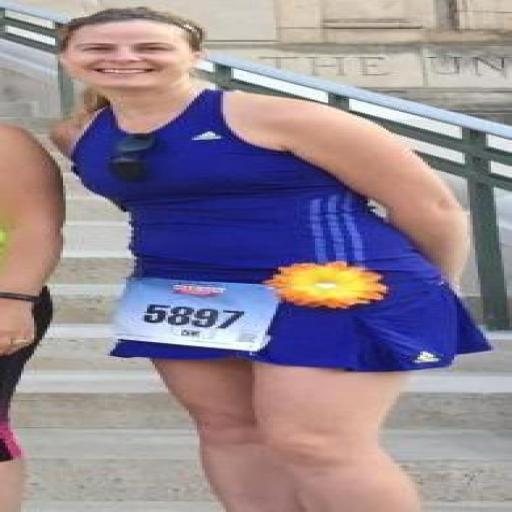person: (53, 8, 488, 511), (0, 125, 63, 511)
